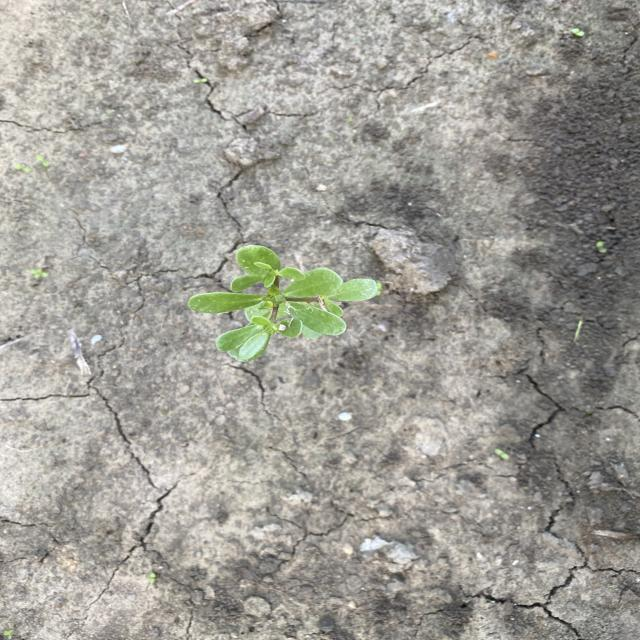Purslane: (184, 245, 382, 365)
